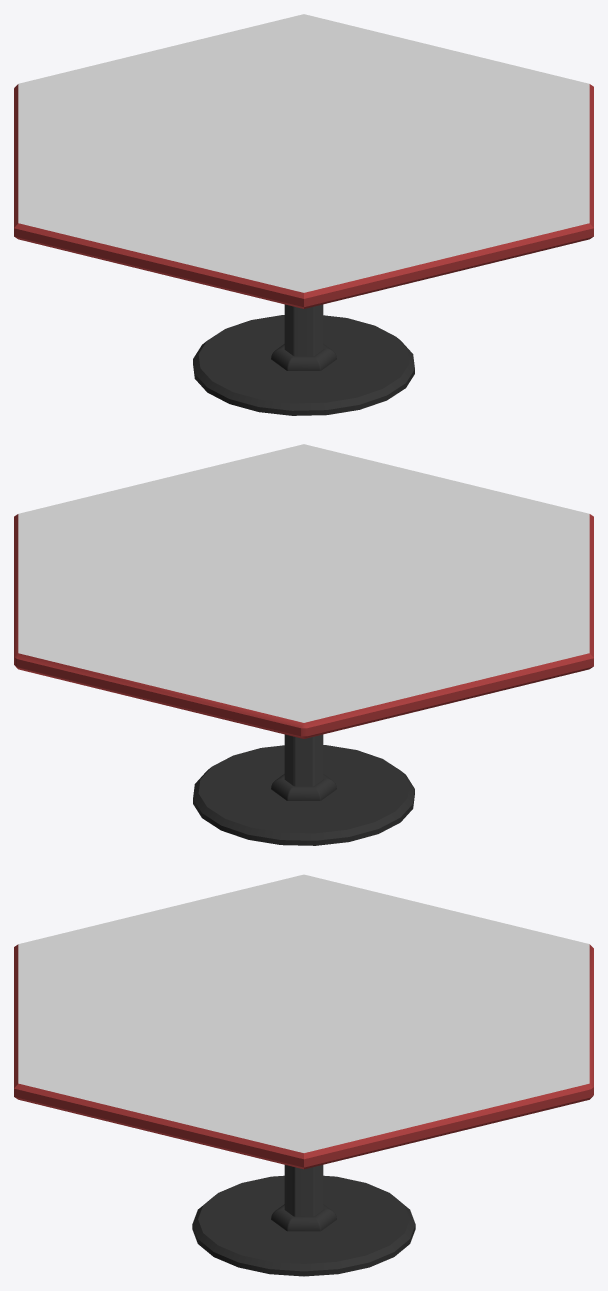
The model's file is table final.fbx.
The picture shows the model from 3 angles, top to bottom: view 1: azimuth 30°, elevation 25°; view 2: azimuth 150°, elevation 25°; view 3: azimuth 270°, elevation 25°; orthographic projection.
Visible parts, largest first — view 1: pCylinder1, pCylinder3, pCylinder2, pTorus1; view 2: pCylinder1, pCylinder3, pCylinder2, pTorus1; view 3: pCylinder1, pCylinder3, pCylinder2, pTorus1.
Part boxes in pixels (left/top/right/bottom): pCylinder1: left=14, top=14, right=593, bottom=308; pCylinder3: left=193, top=315, right=414, bottom=415; pCylinder2: left=284, top=304, right=323, bottom=356; pTorus1: left=271, top=344, right=336, bottom=370; pCylinder1: left=14, top=444, right=593, bottom=738; pCylinder3: left=193, top=745, right=414, bottom=845; pCylinder2: left=284, top=734, right=323, bottom=786; pTorus1: left=271, top=774, right=336, bottom=800; pCylinder1: left=14, top=874, right=593, bottom=1169; pCylinder3: left=192, top=1175, right=415, bottom=1276; pCylinder2: left=284, top=1165, right=323, bottom=1216; pTorus1: left=271, top=1204, right=336, bottom=1231.
Bounding box in the file's own units: 3 × 1.06 × 2.6.
